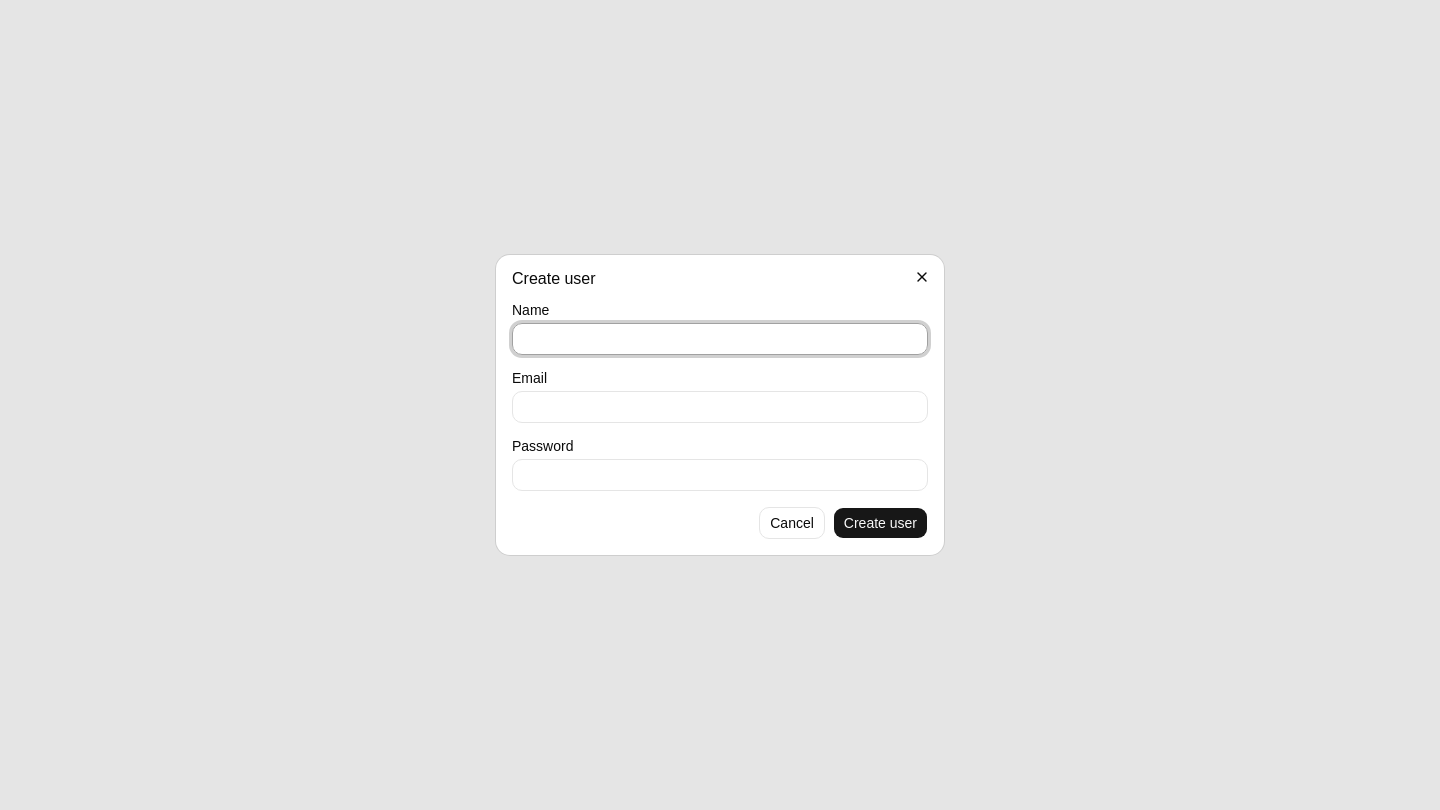
Scenario: CreateUserDialog › shows validation error for invalid email
Type "Carol Agent" into the field labelled "Name" at (720, 339), box left=512, top=323, right=928, bottom=355
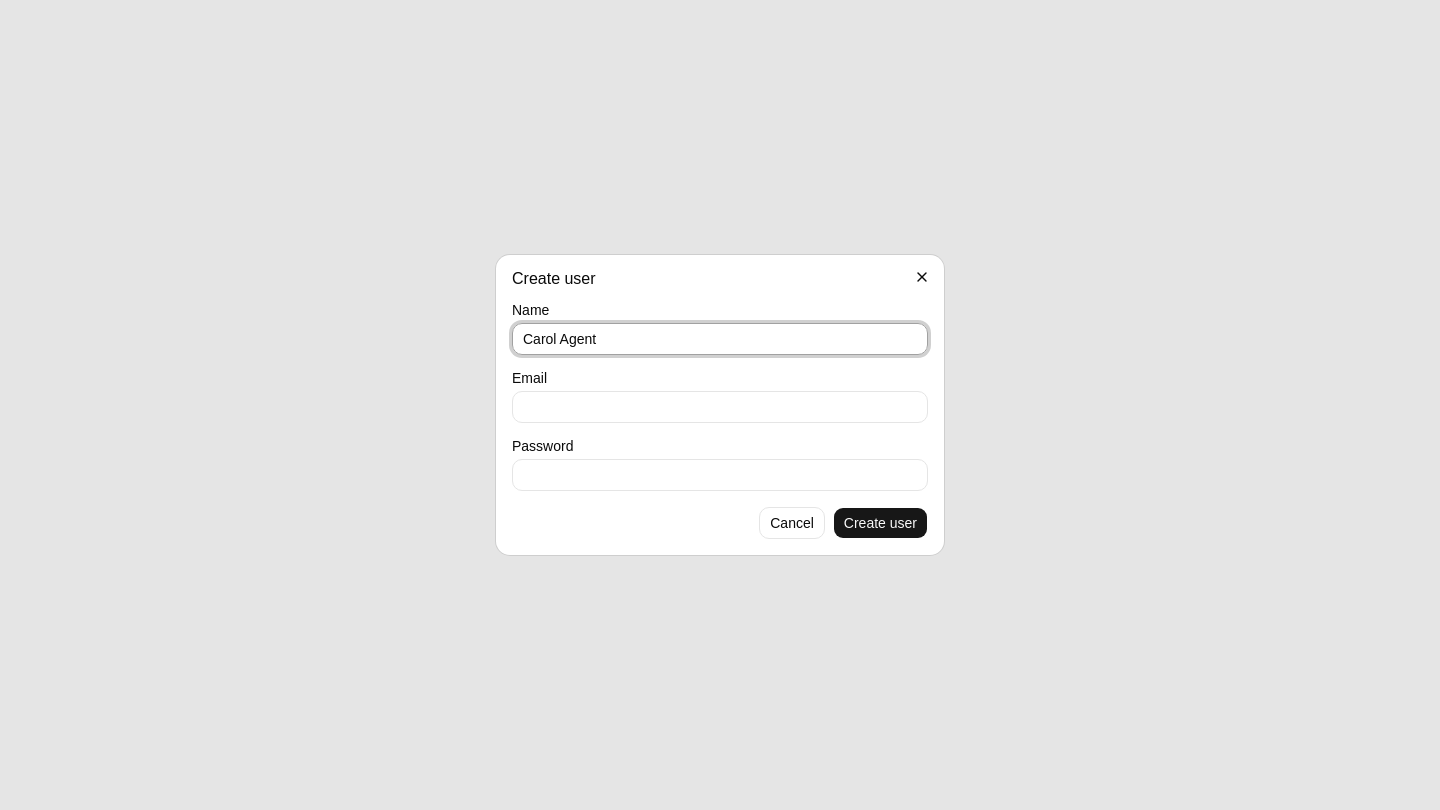
Type "not-an-email" into the field labelled "Email" at (720, 407), box left=512, top=391, right=928, bottom=423
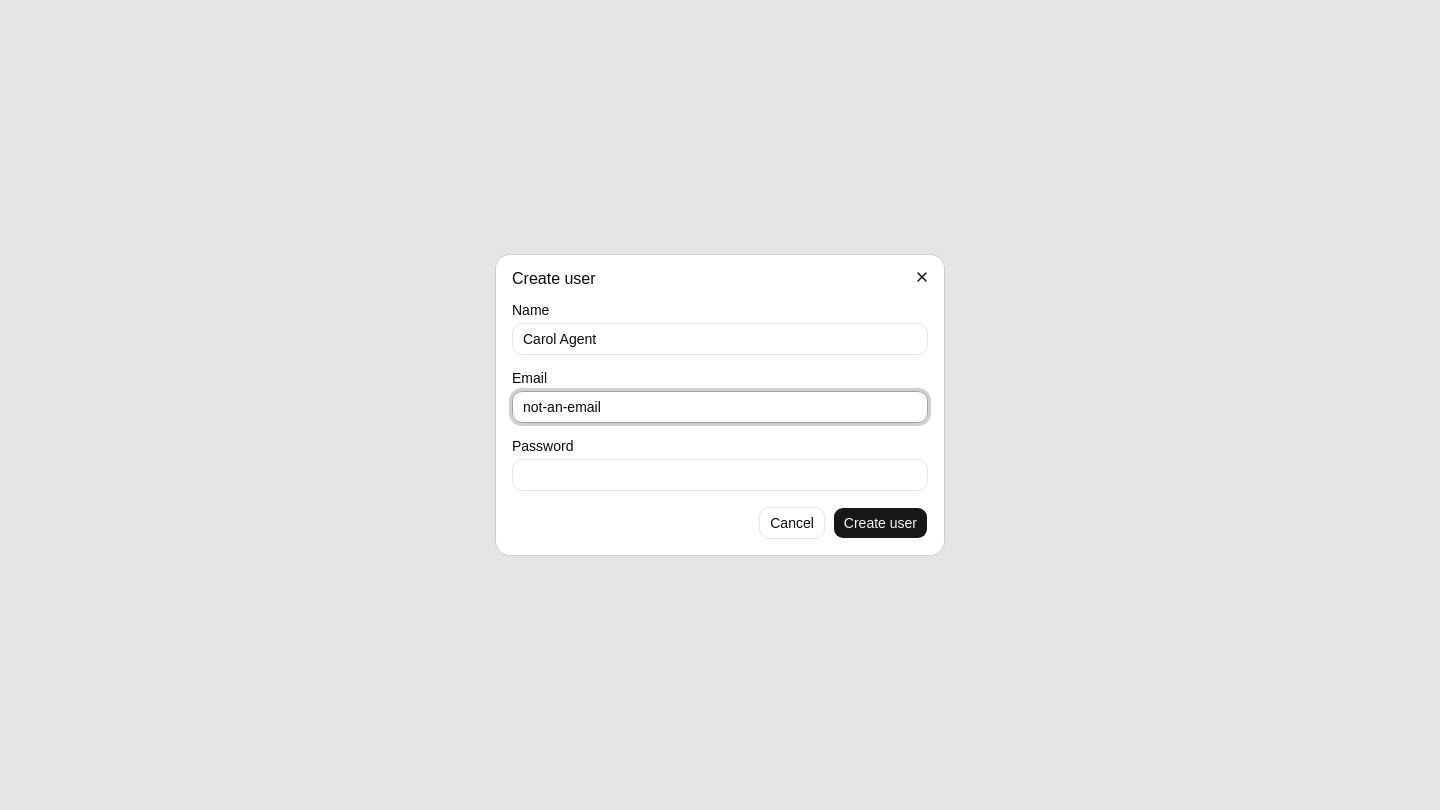
Type "securepassword" into the password field labelled "Password" at (720, 475), box left=512, top=459, right=928, bottom=491
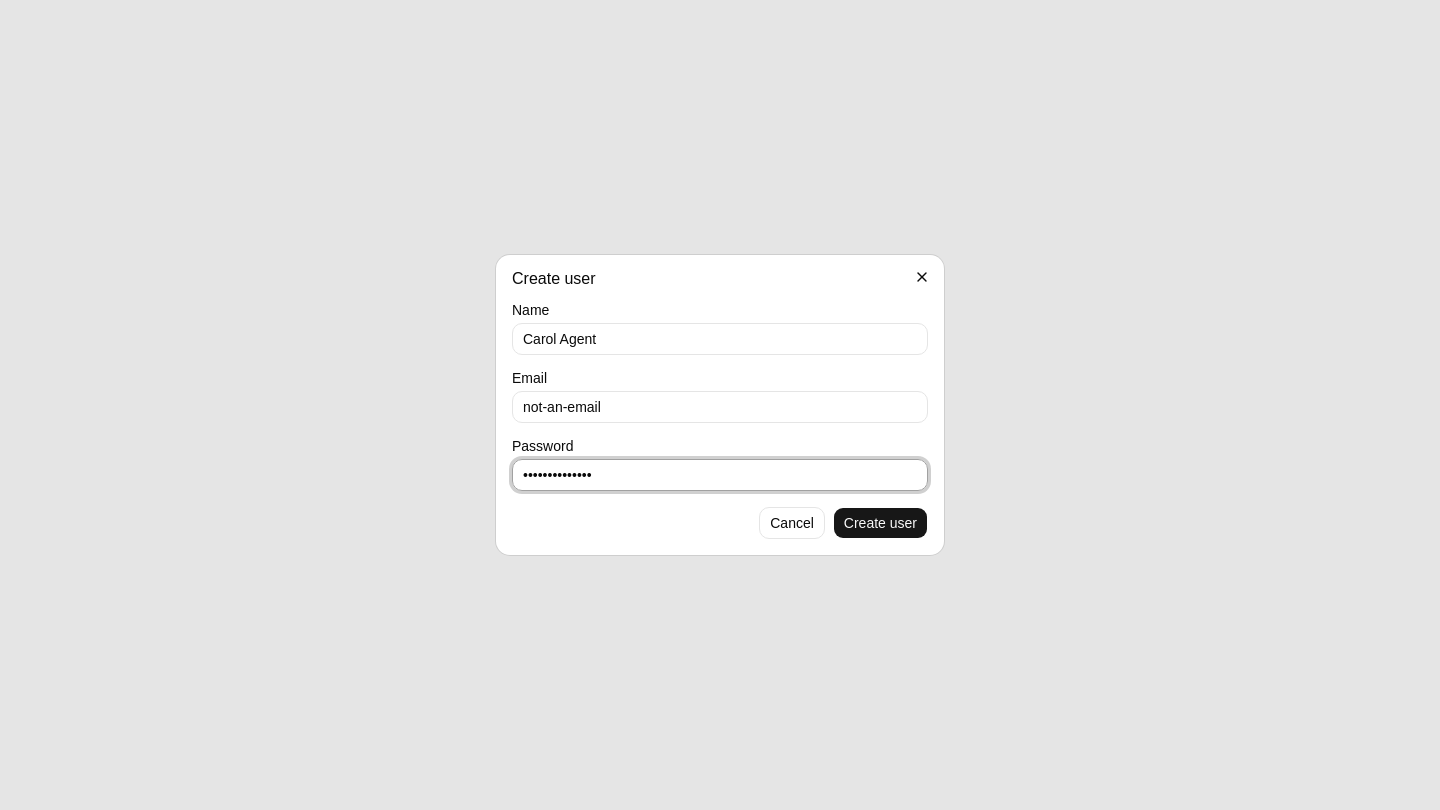
Click the button "Create user" at (880, 523), box left=833, top=507, right=928, bottom=539
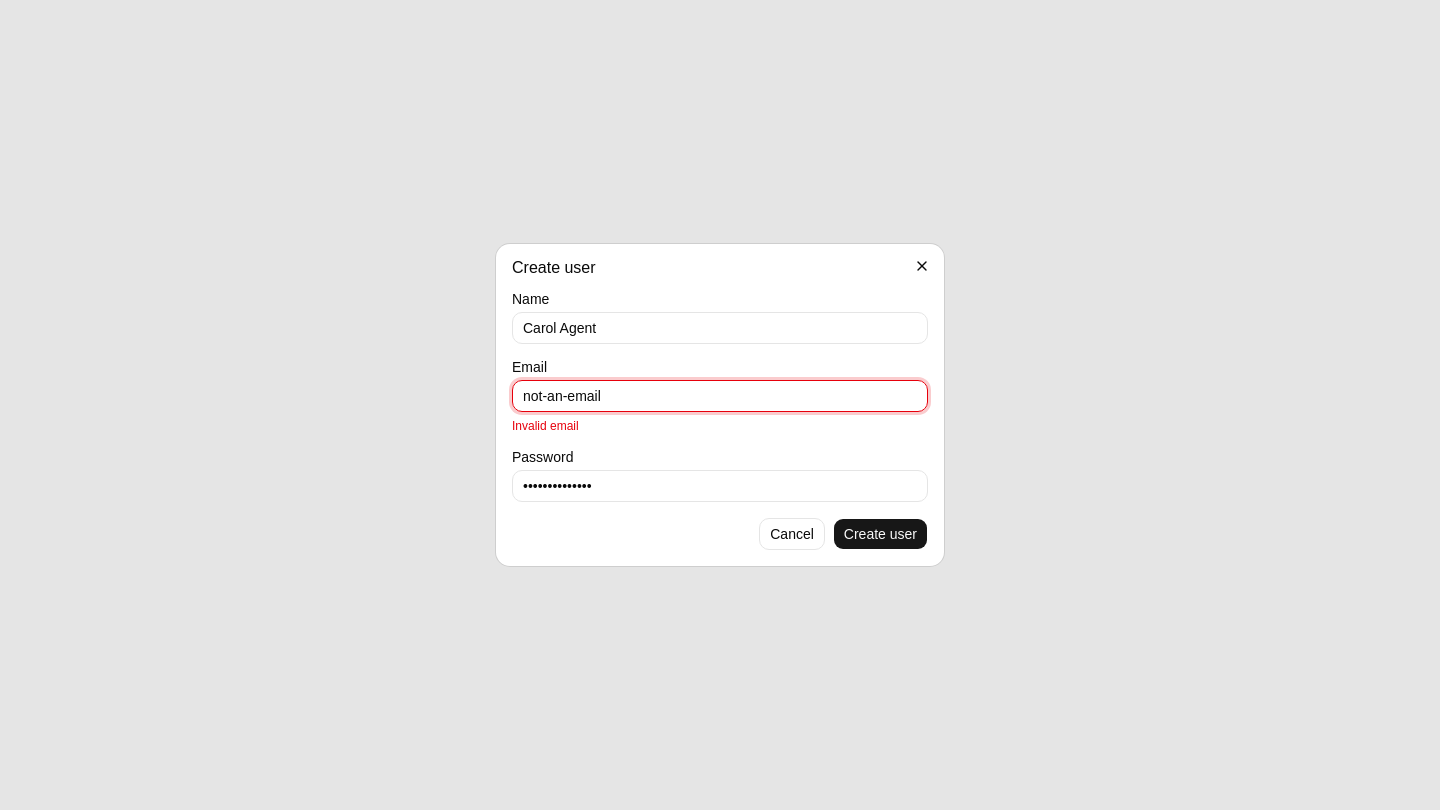
Check: the text "Invalid email" is shown, box left=512, top=419, right=579, bottom=433
